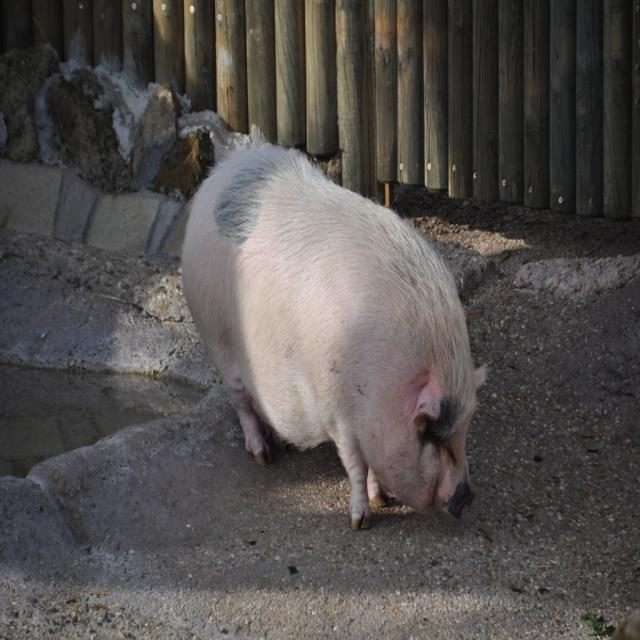Pig: (178, 138, 490, 532)
